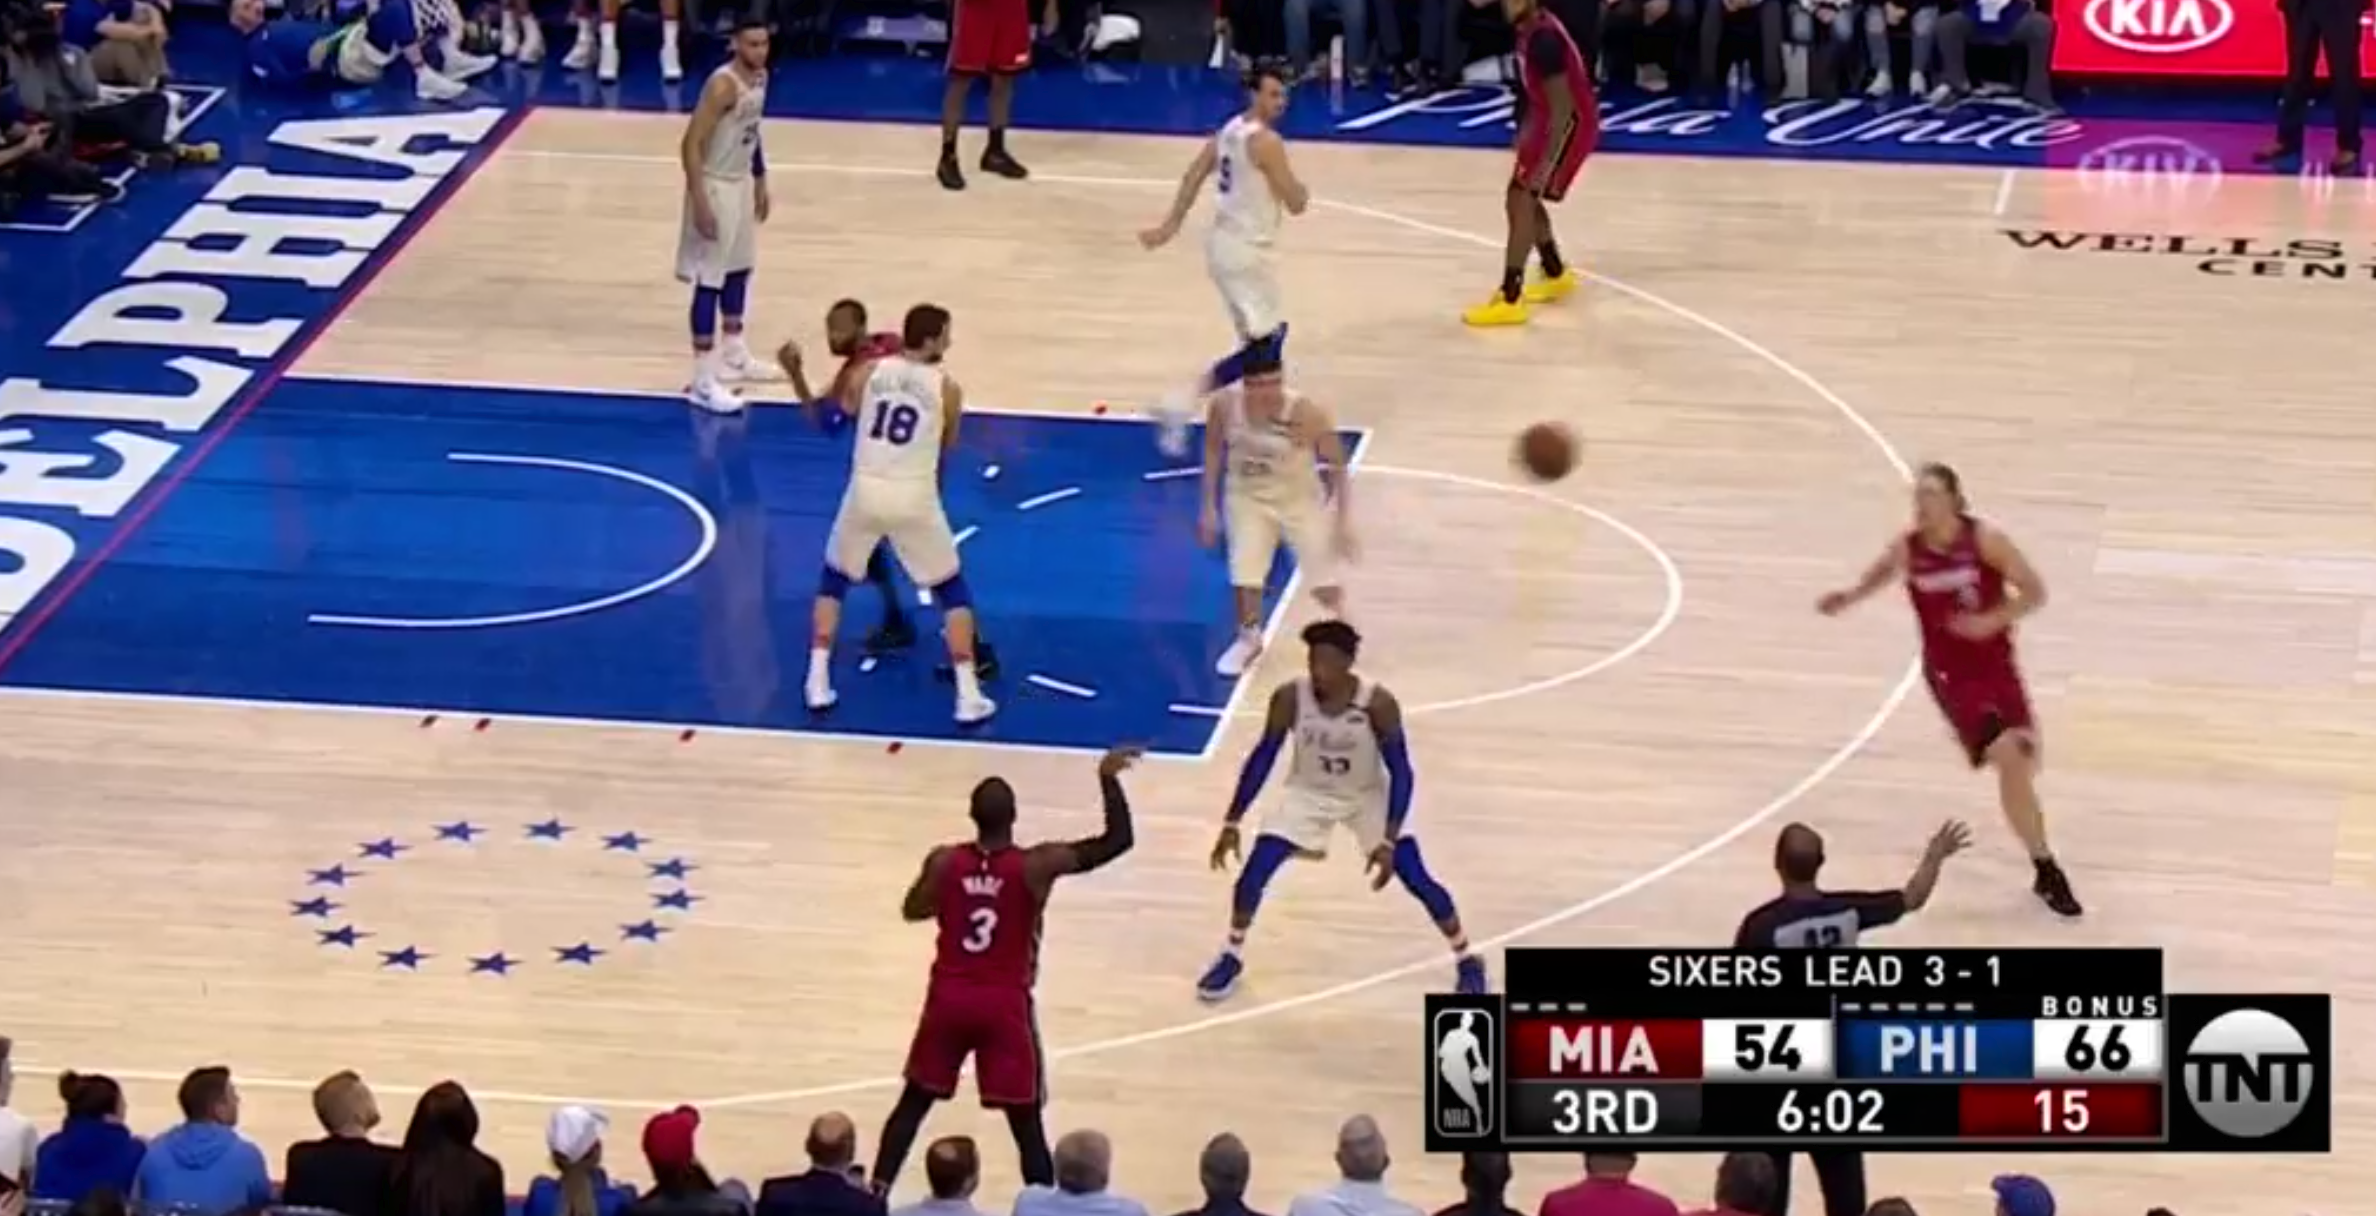ball: (1513, 429, 1563, 472)
player: (1881, 463, 2133, 911), (1241, 612, 1461, 985), (918, 771, 1133, 1145), (852, 285, 1025, 747), (1200, 327, 1386, 638), (1483, 5, 1631, 336), (671, 17, 785, 405), (1213, 90, 1324, 378)
